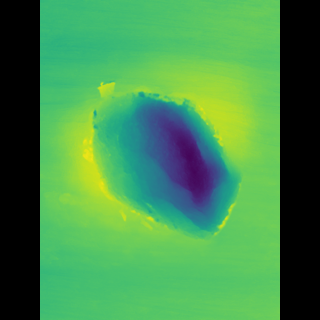Loch: (80, 80, 230, 245)
